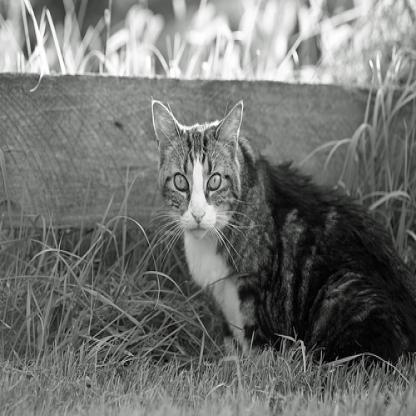cat: (146, 95, 414, 365)
